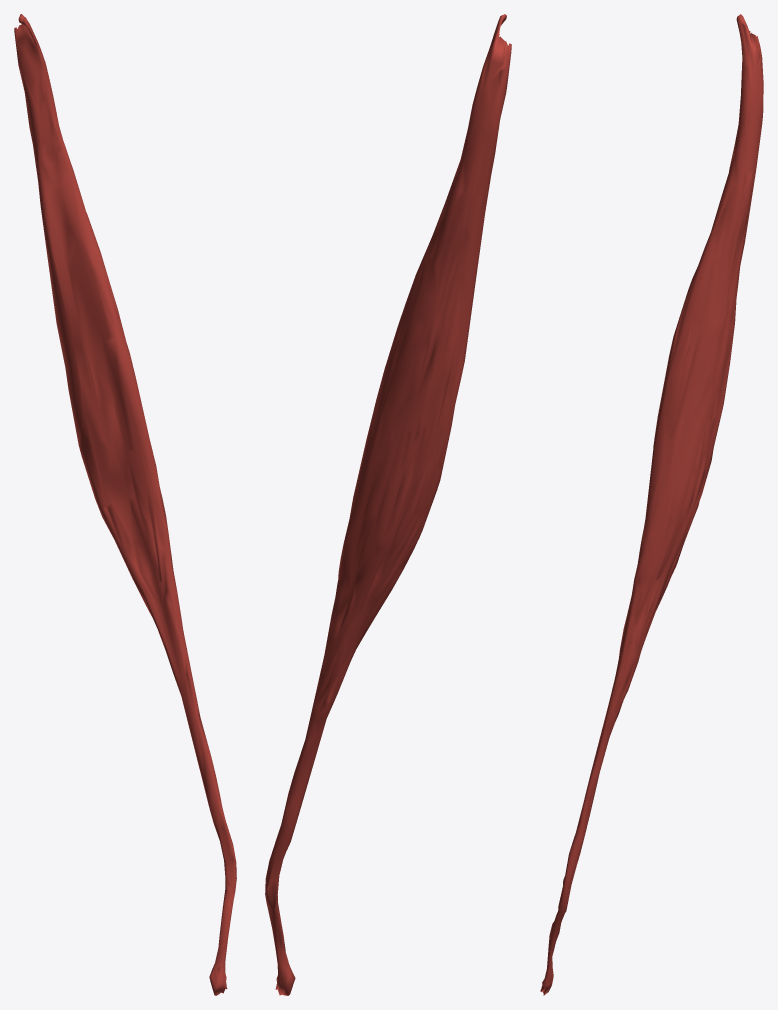
File: musculos-extensor-carpi-radialis-brevis-l.glb
3 views of the same model, side by side, from view 1: azimuth 30°, elevation 25°; view 2: azimuth 210°, elevation 25°; view 3: azimuth 270°, elevation 25° (orthographic). The views are drawn at different scales.
Visible parts, largest first — view 1: Extensor carpi radialis brevis.l; view 2: Extensor carpi radialis brevis.l; view 3: Extensor carpi radialis brevis.l.
Boxes of the visible parts, x1,y1,x2,y2 form: Extensor carpi radialis brevis.l: (14,14,236,995); Extensor carpi radialis brevis.l: (265,14,511,995); Extensor carpi radialis brevis.l: (540,14,763,995).
Size of the model in its own units: 0.0458 by 0.3127 by 0.0679.
